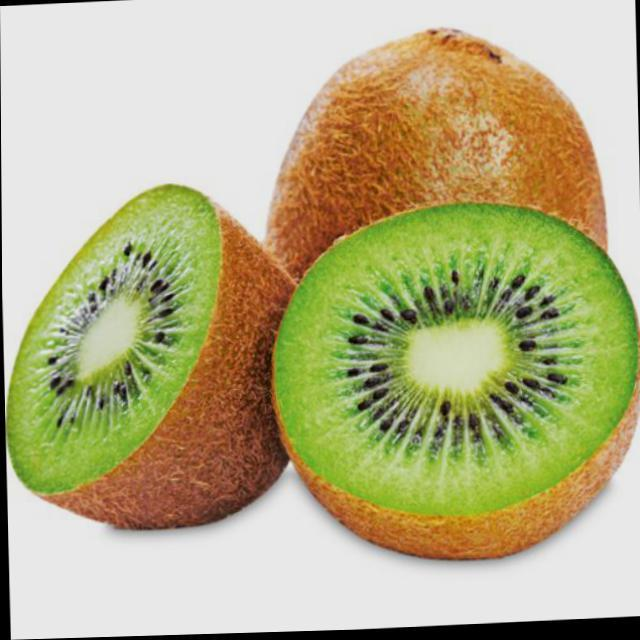kiwi: (260, 13, 624, 265)
